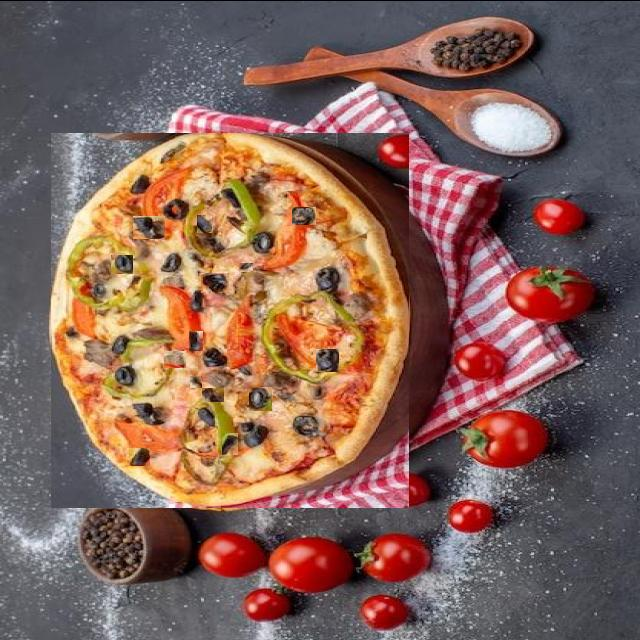olive: (236, 193, 268, 218), (133, 215, 165, 238), (201, 272, 229, 292), (249, 386, 272, 410), (316, 348, 339, 371), (164, 419, 186, 442), (111, 252, 133, 272), (292, 206, 316, 224), (127, 447, 150, 465), (164, 350, 186, 367), (222, 432, 238, 454), (110, 288, 129, 306), (160, 369, 180, 386), (202, 387, 224, 401), (197, 214, 213, 232), (189, 330, 203, 350), (190, 375, 202, 387), (239, 262, 253, 271)
pizza: (51, 132, 409, 507)
